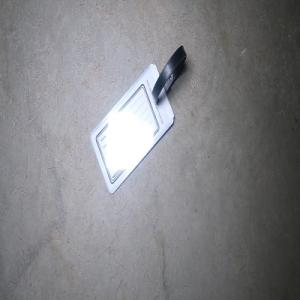LuggageTag: (88, 43, 187, 196)
